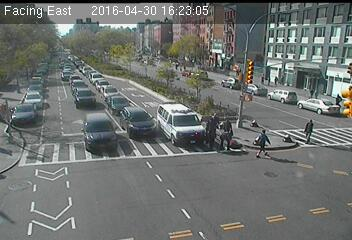neg: (56, 127, 75, 152), (131, 172, 149, 197), (228, 22, 245, 45), (100, 98, 117, 120), (166, 46, 183, 68), (133, 120, 148, 140), (271, 32, 285, 51), (79, 39, 92, 56), (97, 153, 109, 168), (307, 45, 318, 58), (25, 105, 34, 117), (51, 95, 57, 102), (61, 58, 66, 64)
pos: (199, 109, 226, 145), (214, 117, 236, 147), (298, 114, 320, 143), (250, 129, 272, 158), (330, 88, 344, 107), (307, 85, 319, 100), (271, 73, 281, 86), (259, 72, 268, 85), (265, 72, 274, 84)
